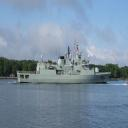Fragata: (17, 40, 112, 85)
